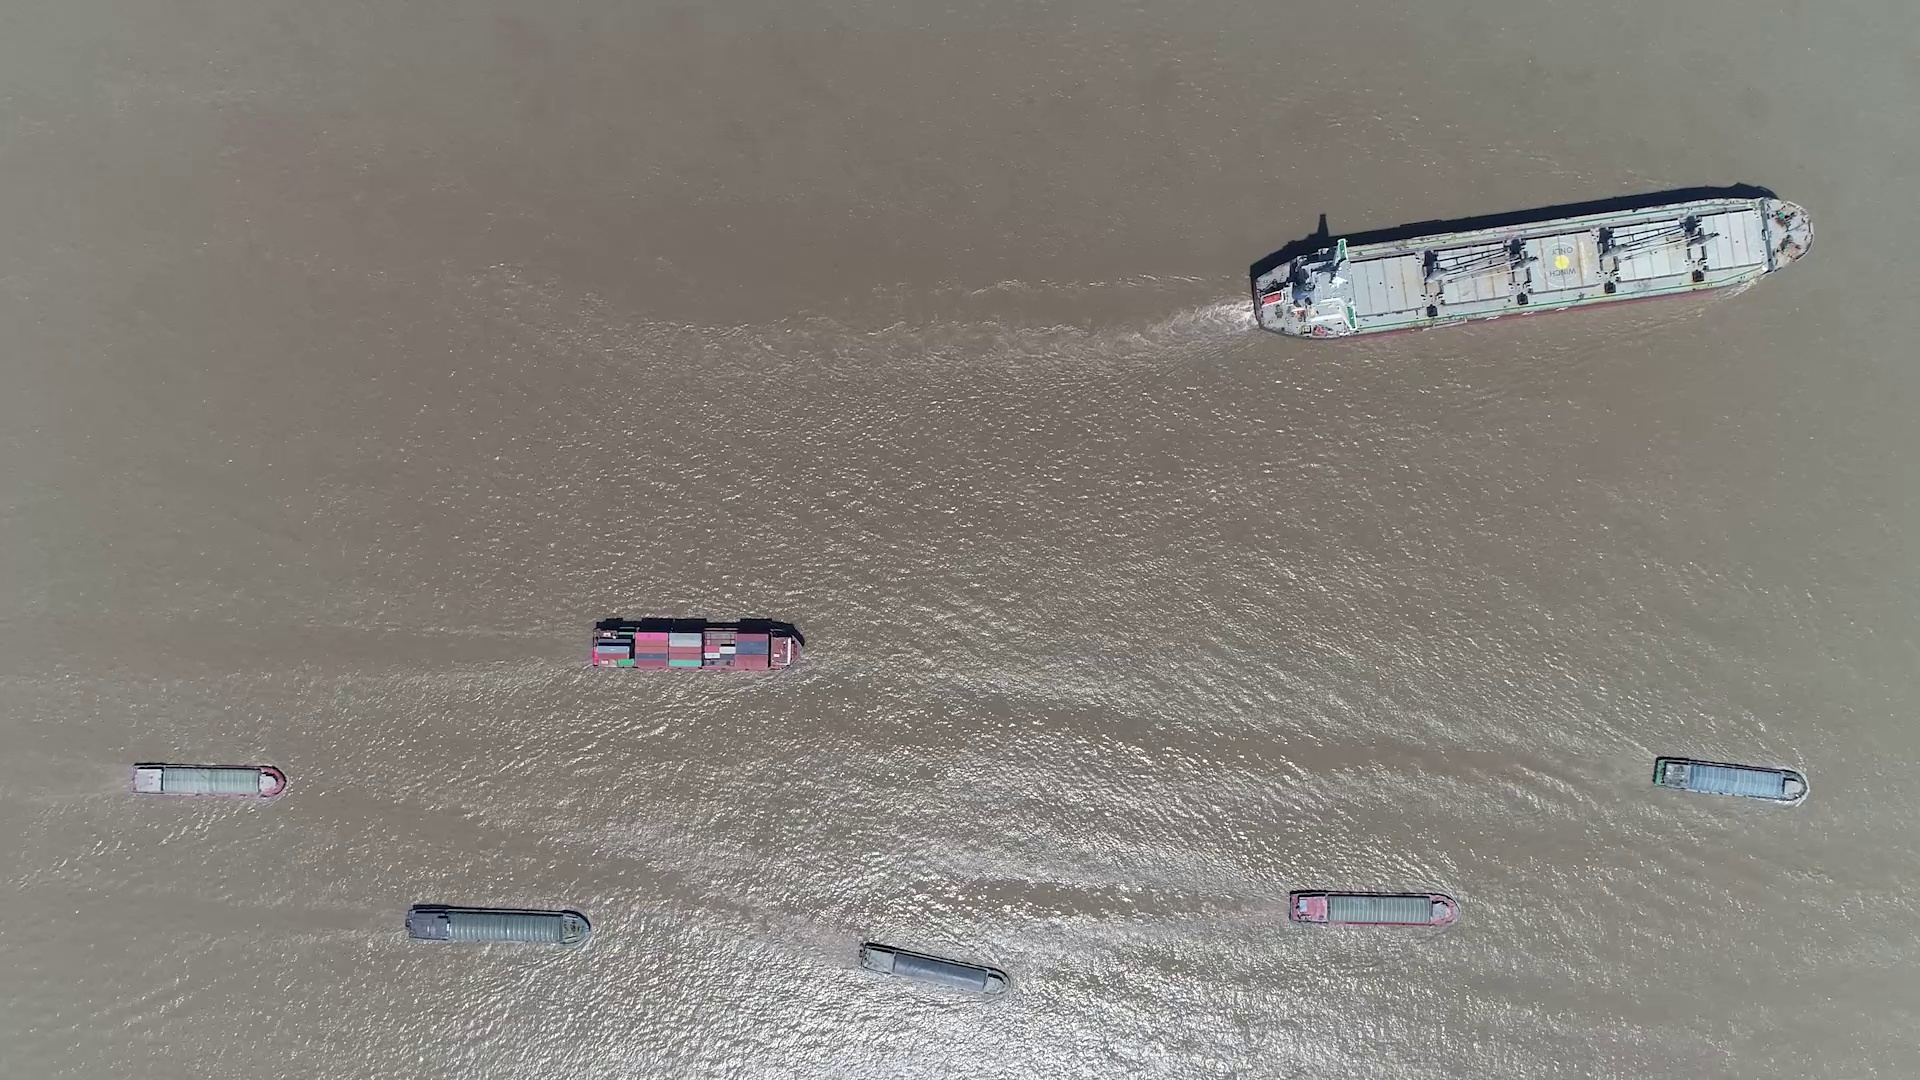ship: (1249, 193, 1813, 338), (589, 621, 802, 671), (858, 942, 1007, 996), (404, 905, 588, 945), (1652, 756, 1807, 803), (1288, 890, 1458, 928), (129, 762, 285, 798)
